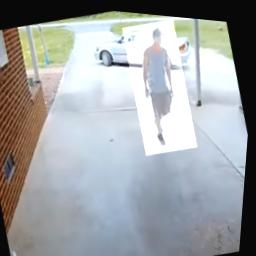nonspitting: (114, 11, 207, 157)
